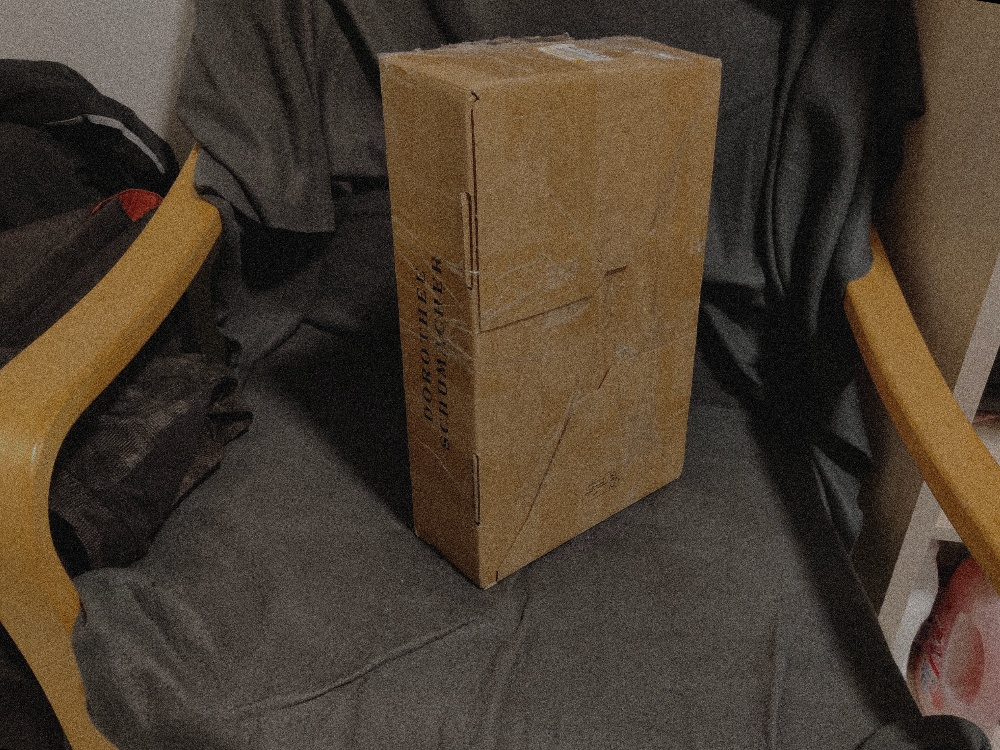good-parcel: (345, 22, 758, 587)
